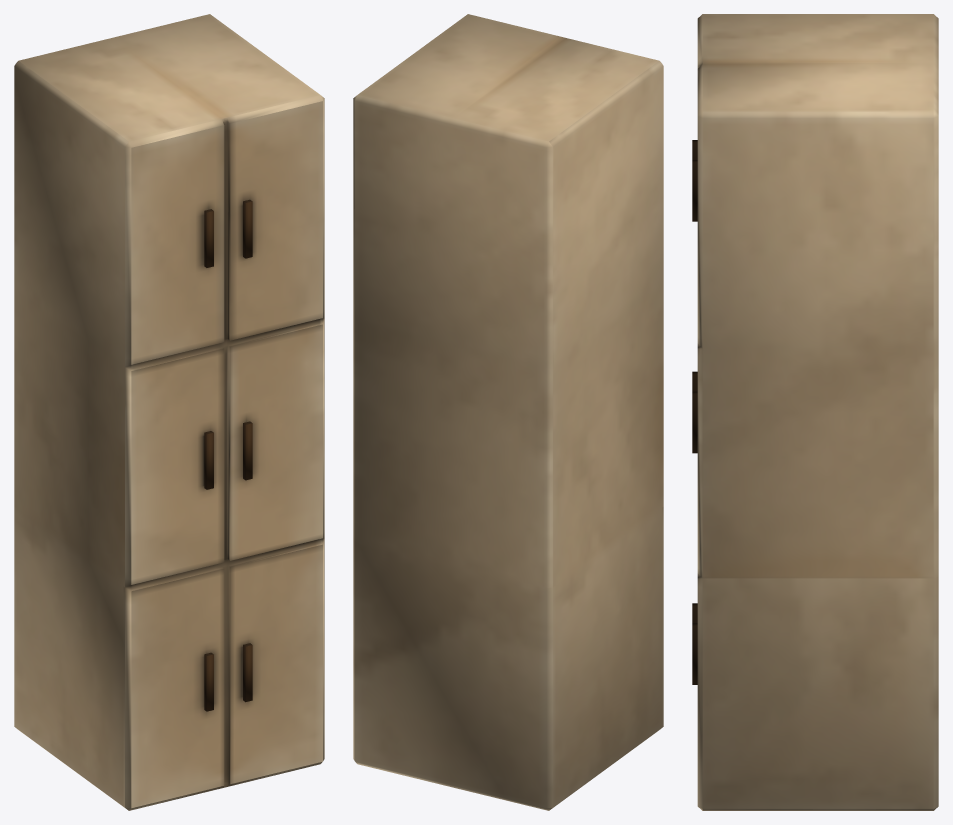
Rendered from Kitchen Cupboard1.fbx.
3 views of the same model, side by side, from view 1: azimuth 30°, elevation 25°; view 2: azimuth 150°, elevation 25°; view 3: azimuth 270°, elevation 25° (orthographic). The views are drawn at different scales.
Visible parts, largest first — view 1: Kitchen Cupboard1; view 2: Kitchen Cupboard1; view 3: Kitchen Cupboard1.
Boxes of the visible parts, x1,y1,x2,y2 form: Kitchen Cupboard1: (14,14,324,810); Kitchen Cupboard1: (353,14,663,810); Kitchen Cupboard1: (692,14,938,810).
Bounding box in the file's own units: 1 × 3.2 × 1.02.
Materials: 1 (1 with a texture image).
